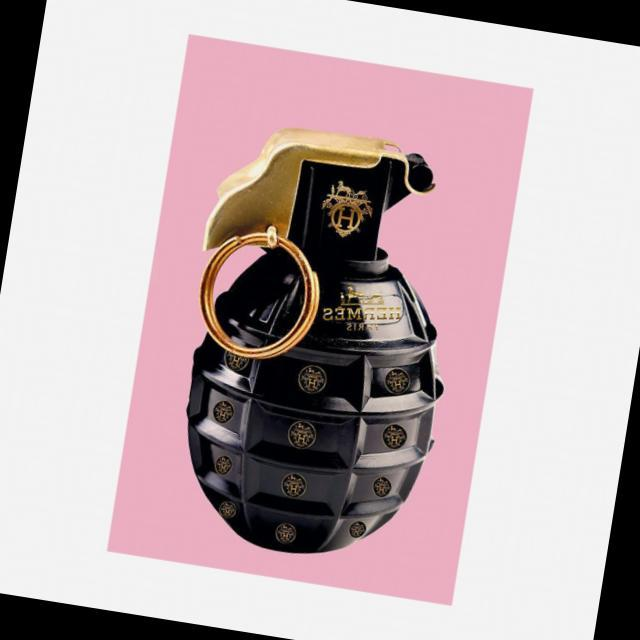grenade: (160, 126, 478, 580)
